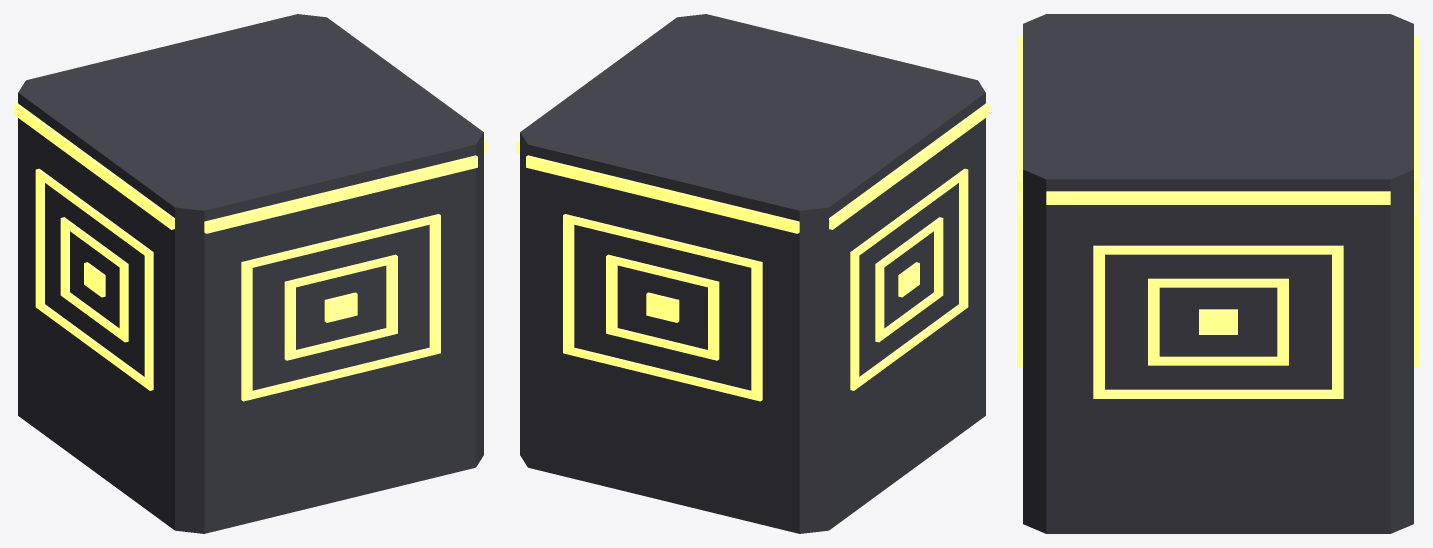
Rendered from target.glb.
The picture shows the model from 3 angles, left to right: view 1: azimuth 30°, elevation 25°; view 2: azimuth 150°, elevation 25°; view 3: azimuth 270°, elevation 25°; orthographic projection. The views are drawn at different scales.
Visible parts, largest first — view 1: target; view 2: target; view 3: target.
Part boxes in pixels (bbox=[...]): target: bbox=[14, 14, 487, 533]; target: bbox=[516, 14, 989, 533]; target: bbox=[1018, 14, 1418, 533].
Bounding box in the file's own units: 2.05 × 2 × 2.05.
